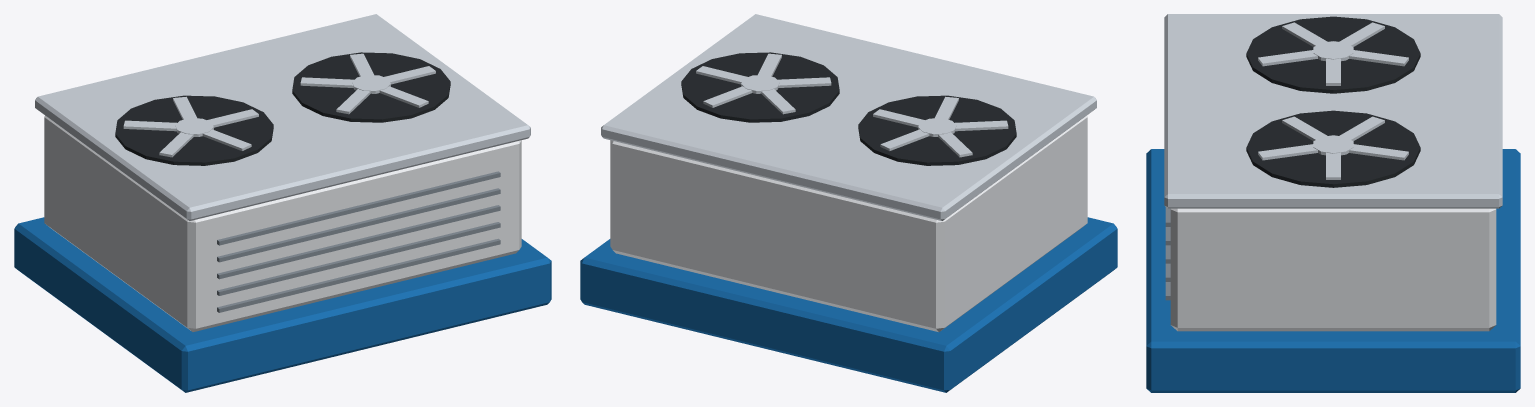
File: SM_MPR4_RoofHVAC.fbx
3 renders of one model, left to right at view 1: azimuth 30°, elevation 25°; view 2: azimuth 150°, elevation 25°; view 3: azimuth 270°, elevation 25°, orthographic. The views are drawn at different scales.
Parts seen in each view (by area): view 1: SM_MPR4_RoofHVAC; view 2: SM_MPR4_RoofHVAC; view 3: SM_MPR4_RoofHVAC.
Boxes of the visible parts, x1,y1,x2,y2 form: SM_MPR4_RoofHVAC: [14, 14, 551, 392]; SM_MPR4_RoofHVAC: [580, 14, 1117, 392]; SM_MPR4_RoofHVAC: [1146, 14, 1520, 392].
Size of the model in its own units: 230 by 185 by 109.
